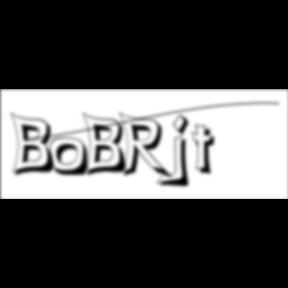B: (10, 111, 60, 179), (82, 111, 132, 179)
R: (118, 112, 176, 182)
j: (170, 113, 196, 191)
o: (50, 137, 92, 179)
t: (192, 124, 222, 179)
